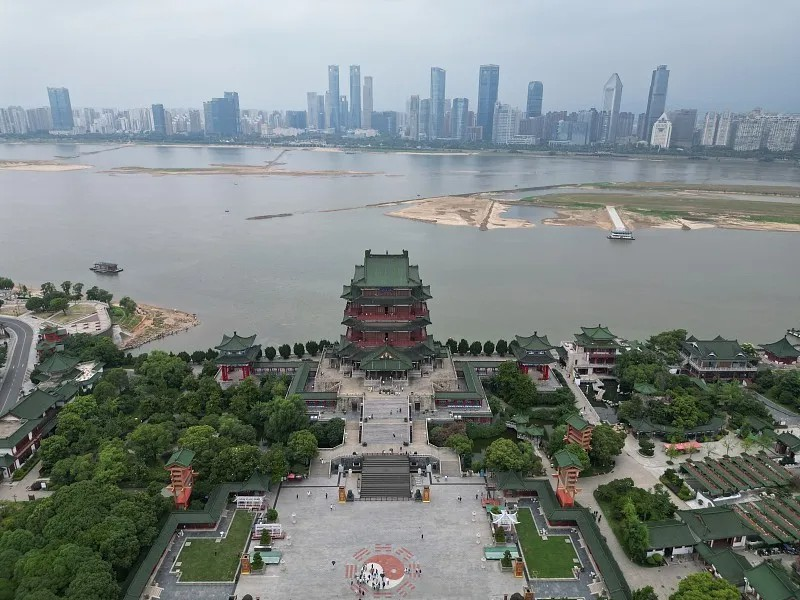Teng: (325, 250, 442, 376)
